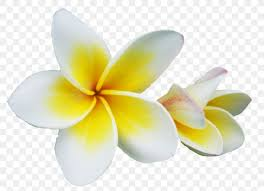frangipani: (7, 8, 184, 187)
